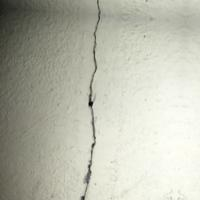crack: (74, 1, 109, 199)
